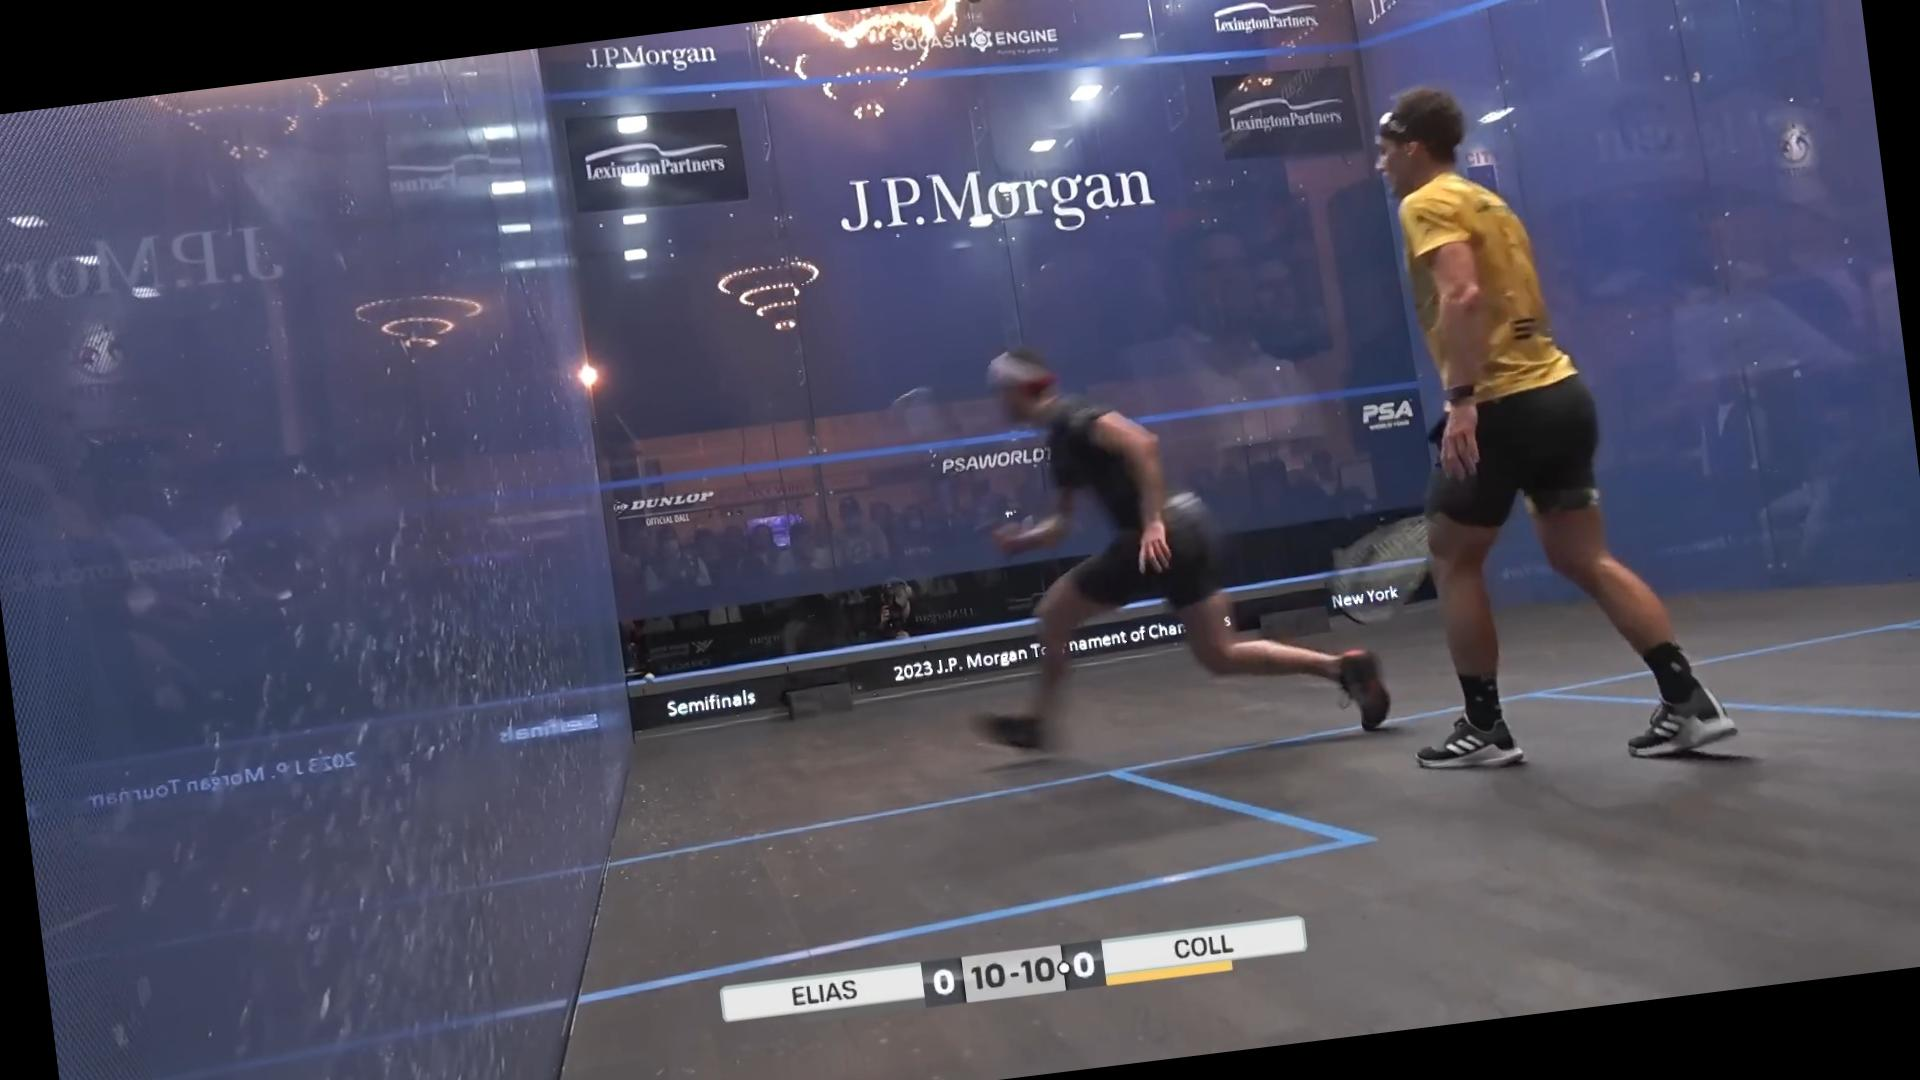Racket: (869, 364, 1005, 526), (1312, 501, 1440, 634)
